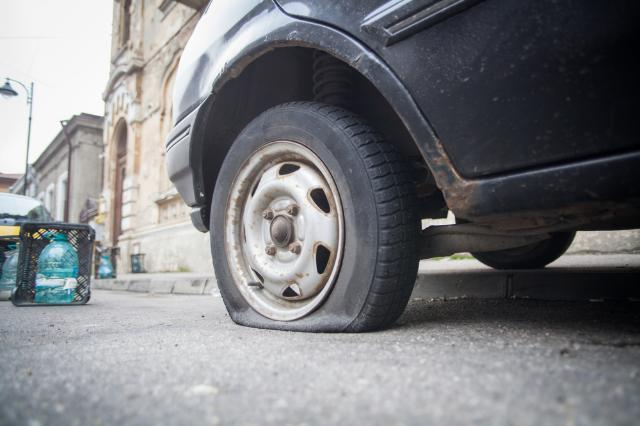tire flat: (210, 100, 422, 334)
